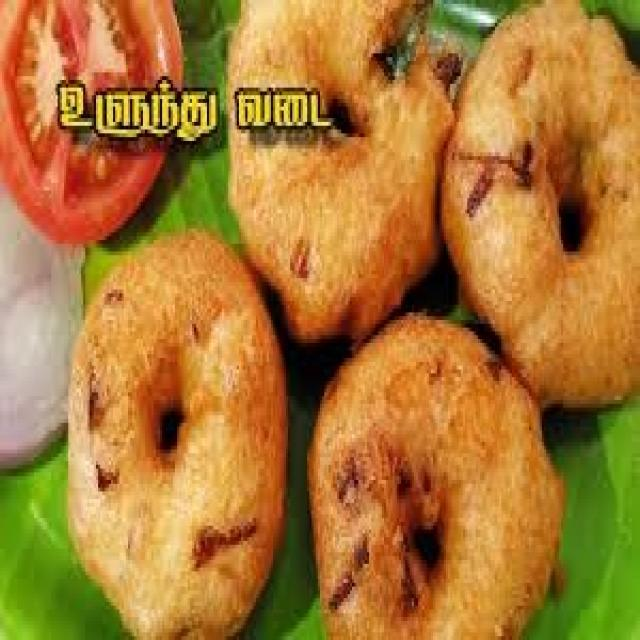medu vadai: (309, 295, 570, 640), (67, 234, 286, 635), (447, 3, 640, 405), (230, 4, 452, 340)
